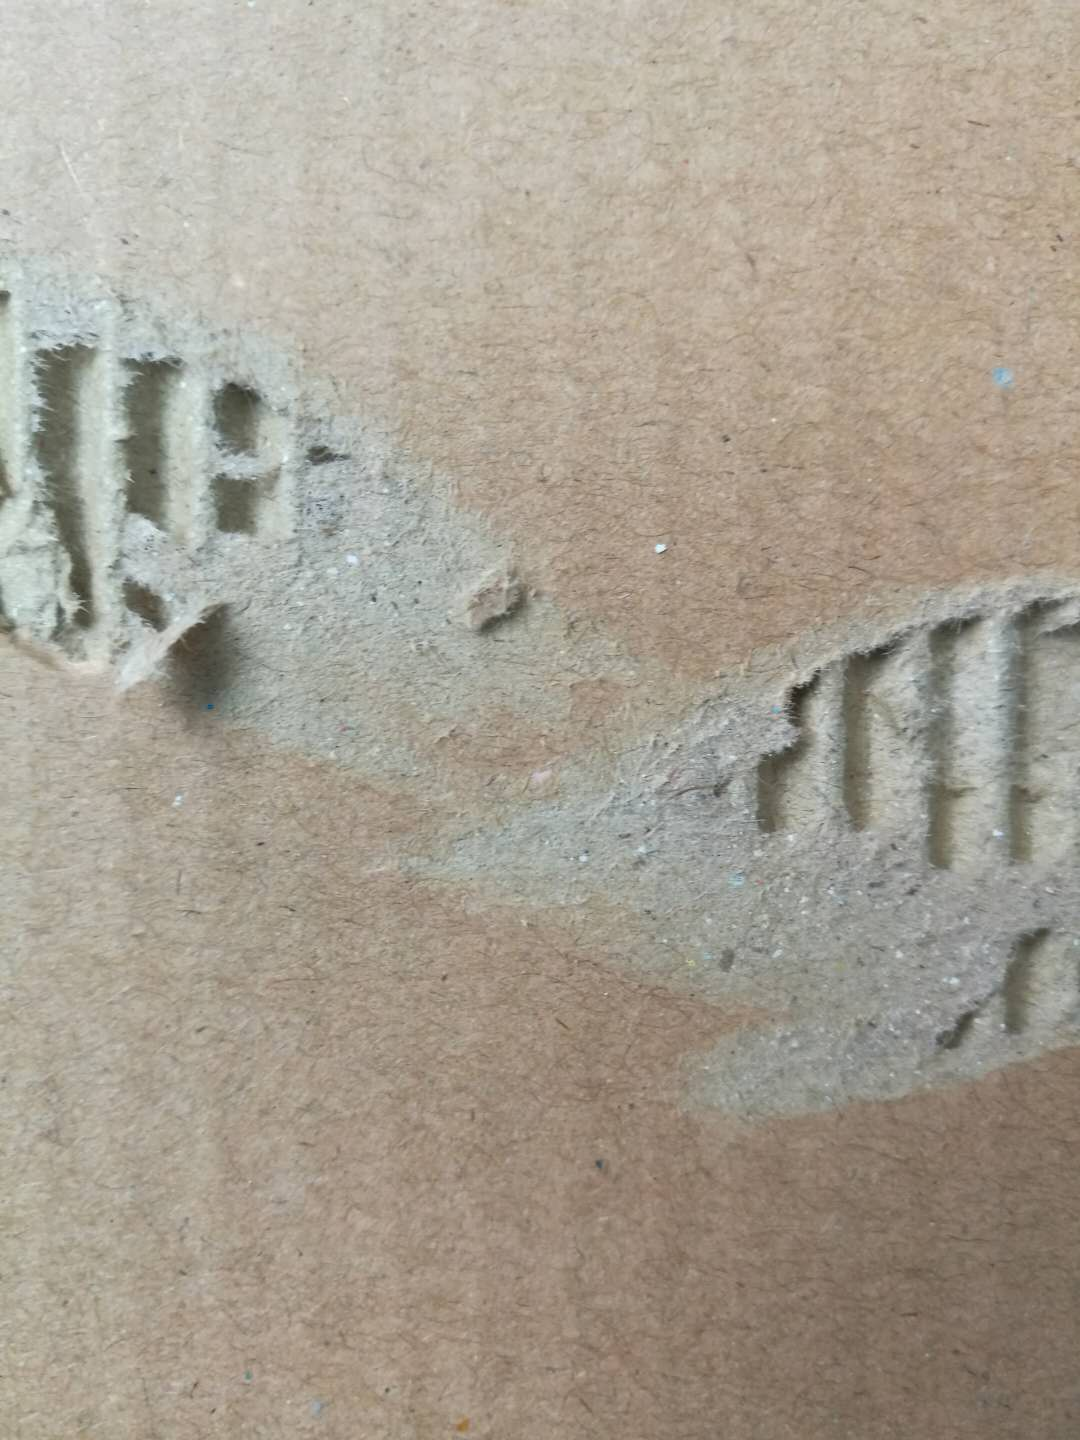defect: (372, 522, 1080, 1175), (3, 183, 685, 835)
